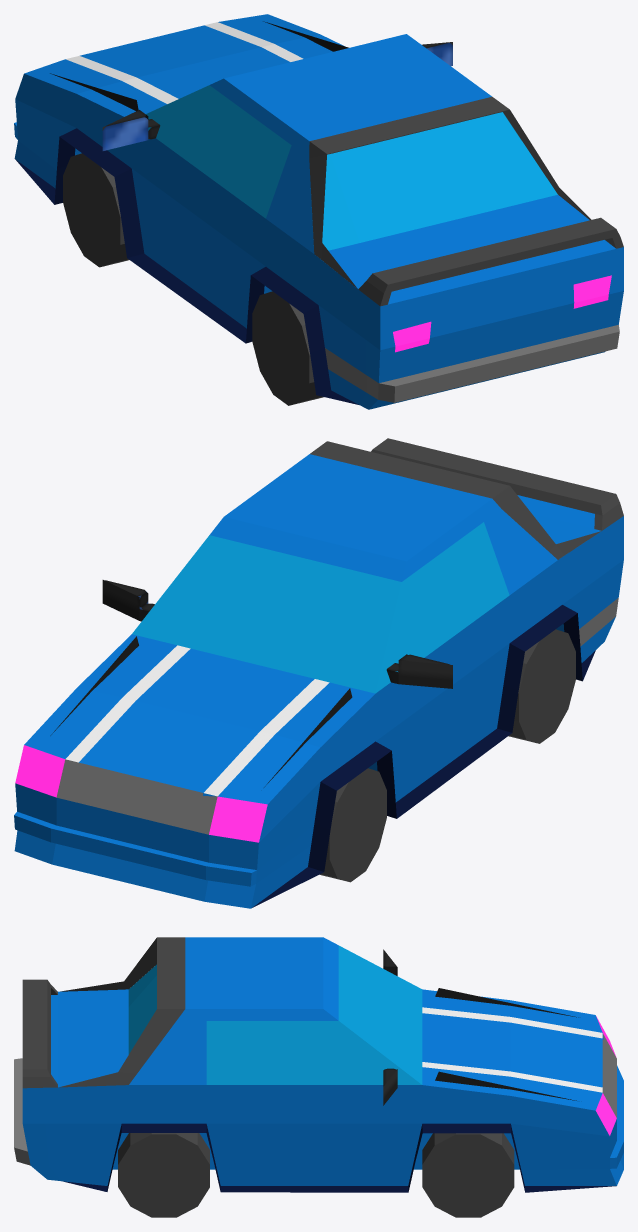
Rendered from carrito.fbx.
3 renders of one model, top to bottom at view 1: azimuth 30°, elevation 25°; view 2: azimuth 150°, elevation 25°; view 3: azimuth 270°, elevation 25°, orthographic. The views are drawn at different scales.
Parts seen in each view (by area): view 1: body.001, widebody kit, spoiler, rear aero, rear right wheel, front right wheel, mirrors, front aero; view 2: body.001, widebody kit, spoiler, rear right wheel, front right wheel, rear aero, mirrors, front aero; view 3: body.001, front left wheel, rear left wheel, rear aero, widebody kit, spoiler, front aero, mirrors.
Part boxes in pixels (x1,y1,x2,y2): body.001: (14, 14, 623, 409); widebody kit: (15, 128, 358, 404); spoiler: (358, 217, 623, 306); rear aero: (309, 96, 591, 288); rear right wheel: (252, 291, 323, 405); front right wheel: (63, 153, 128, 267); mirrors: (102, 42, 452, 150); front aero: (50, 21, 348, 111); body.001: (14, 454, 623, 908); widebody kit: (252, 605, 595, 907); spoiler: (371, 438, 623, 530); rear right wheel: (508, 629, 575, 743); front right wheel: (319, 768, 386, 882); rear aero: (310, 441, 601, 559); mirrors: (102, 580, 452, 688); front aero: (50, 636, 352, 787); body.001: (14, 937, 623, 1185); front left wheel: (422, 1133, 514, 1217); rear left wheel: (118, 1133, 209, 1217); rear aero: (59, 937, 185, 1087); widebody kit: (63, 1123, 616, 1192); spoiler: (22, 979, 57, 1088); front aero: (435, 988, 578, 1100); mirrors: (383, 949, 397, 1105).
Bounding box in the file's own units: 144 × 93.75 × 269.
8 materials, 1 textured.
